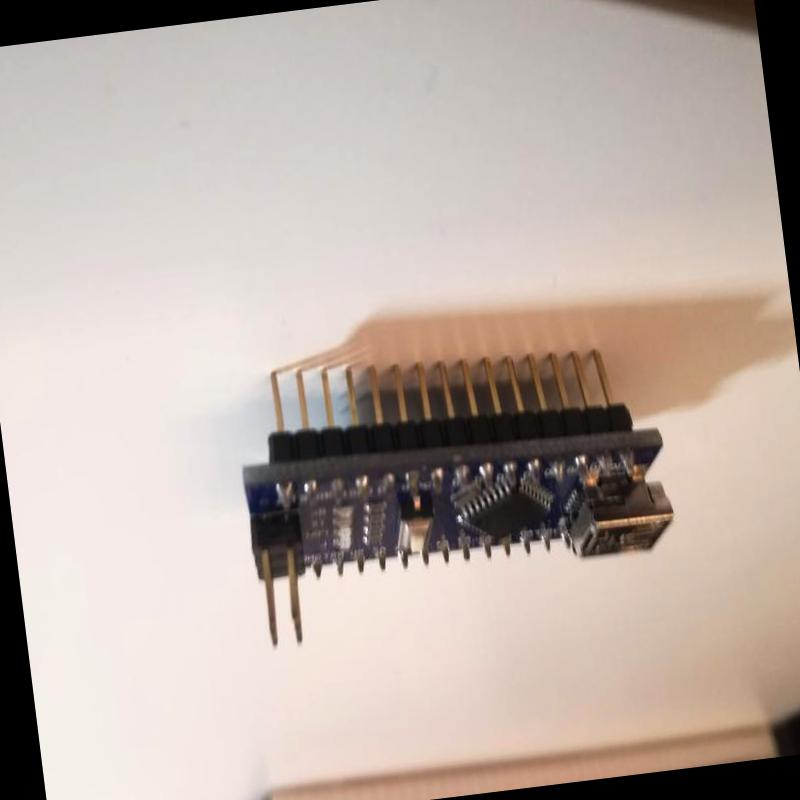Arduino_Nano: (206, 315, 702, 665)
